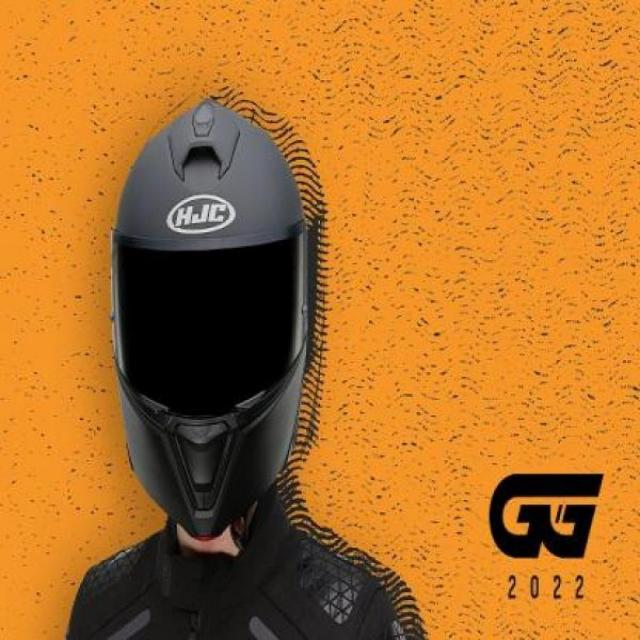Helmet: (112, 106, 319, 510)
